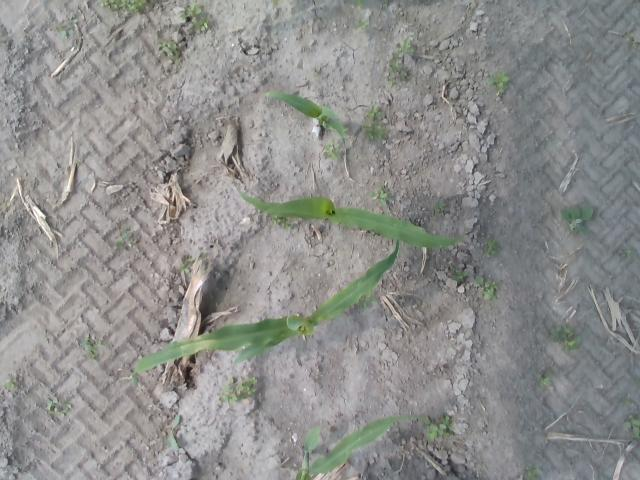Maize: (132, 240, 400, 373), (232, 178, 466, 244), (294, 416, 422, 479), (266, 90, 348, 146)
Weeds: (562, 202, 594, 232), (362, 105, 388, 139), (184, 1, 212, 31), (220, 379, 258, 401), (424, 414, 452, 441), (101, 1, 151, 15), (389, 51, 412, 81), (550, 324, 579, 347), (156, 39, 187, 57), (476, 275, 497, 299), (79, 336, 101, 356), (490, 74, 510, 94), (373, 186, 392, 206), (48, 400, 70, 416), (624, 414, 640, 436), (322, 142, 341, 160), (402, 38, 418, 57), (482, 237, 498, 256), (114, 233, 132, 248), (450, 265, 464, 281), (522, 464, 538, 478), (4, 374, 20, 386), (436, 202, 450, 213), (538, 373, 550, 385), (178, 262, 190, 274), (282, 219, 291, 229), (274, 215, 280, 225)
